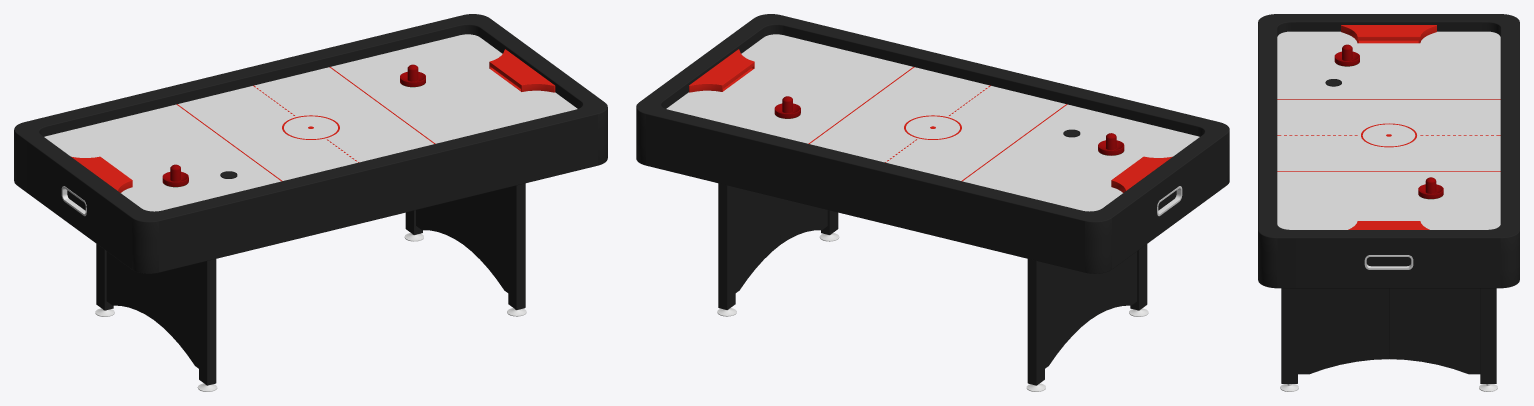
Rendered from air_hockey.fbx.
The picture shows the model from 3 angles, left to right: view 1: azimuth 30°, elevation 25°; view 2: azimuth 150°, elevation 25°; view 3: azimuth 270°, elevation 25°; orthographic projection. The views are drawn at different scales.
Parts seen in each view (by area): view 1: Game table Air Hockey; view 2: Game table Air Hockey; view 3: Game table Air Hockey.
Part boxes in pixels (box(x1,y1,x2,y2)): Game table Air Hockey: box(14, 14, 607, 391); Game table Air Hockey: box(636, 14, 1229, 391); Game table Air Hockey: box(1258, 14, 1519, 391).
Size of the model in its own units: 208 by 84.38 by 103.
